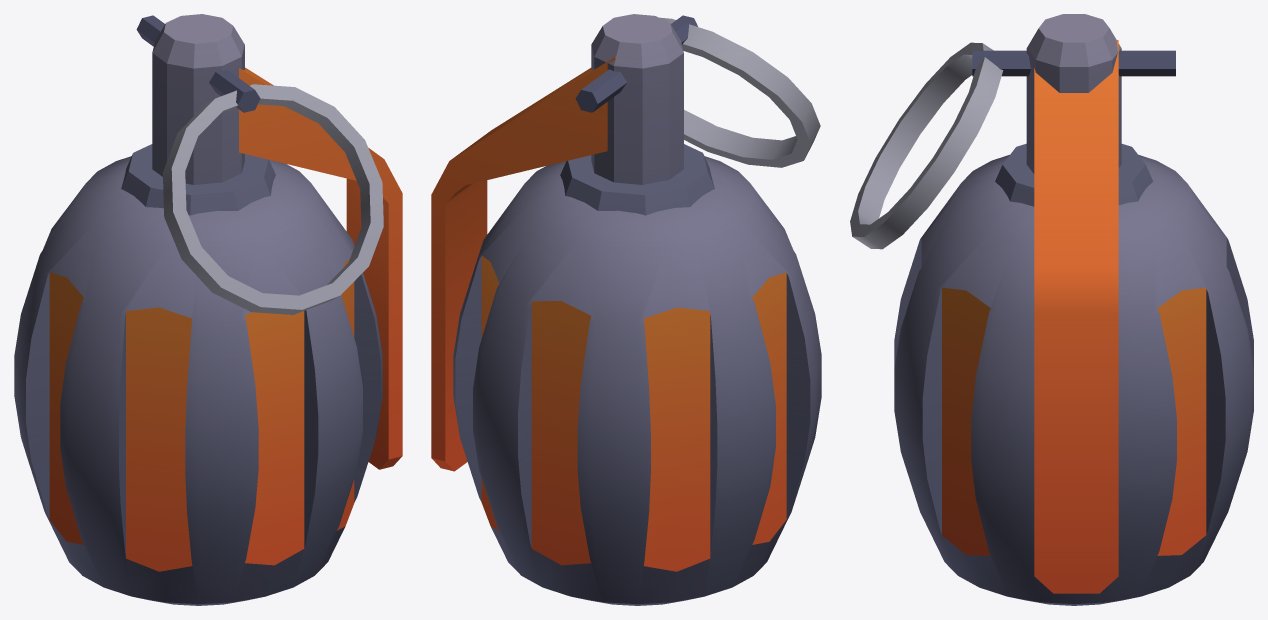
File: Grenade A.fbx
The picture shows the model from 3 angles, left to right: view 1: azimuth 30°, elevation 25°; view 2: azimuth 150°, elevation 25°; view 3: azimuth 270°, elevation 25°; orthographic projection.
Visible parts, largest first — view 1: Grenade A; view 2: Grenade A; view 3: Grenade A.
Boxes of the visible parts, box(x1,y1,x2,y2) form: Grenade A: box(14, 14, 402, 605); Grenade A: box(431, 14, 821, 605); Grenade A: box(850, 14, 1253, 605).
Size of the model in its own units: 0.1595 by 0.2407 by 0.164.
